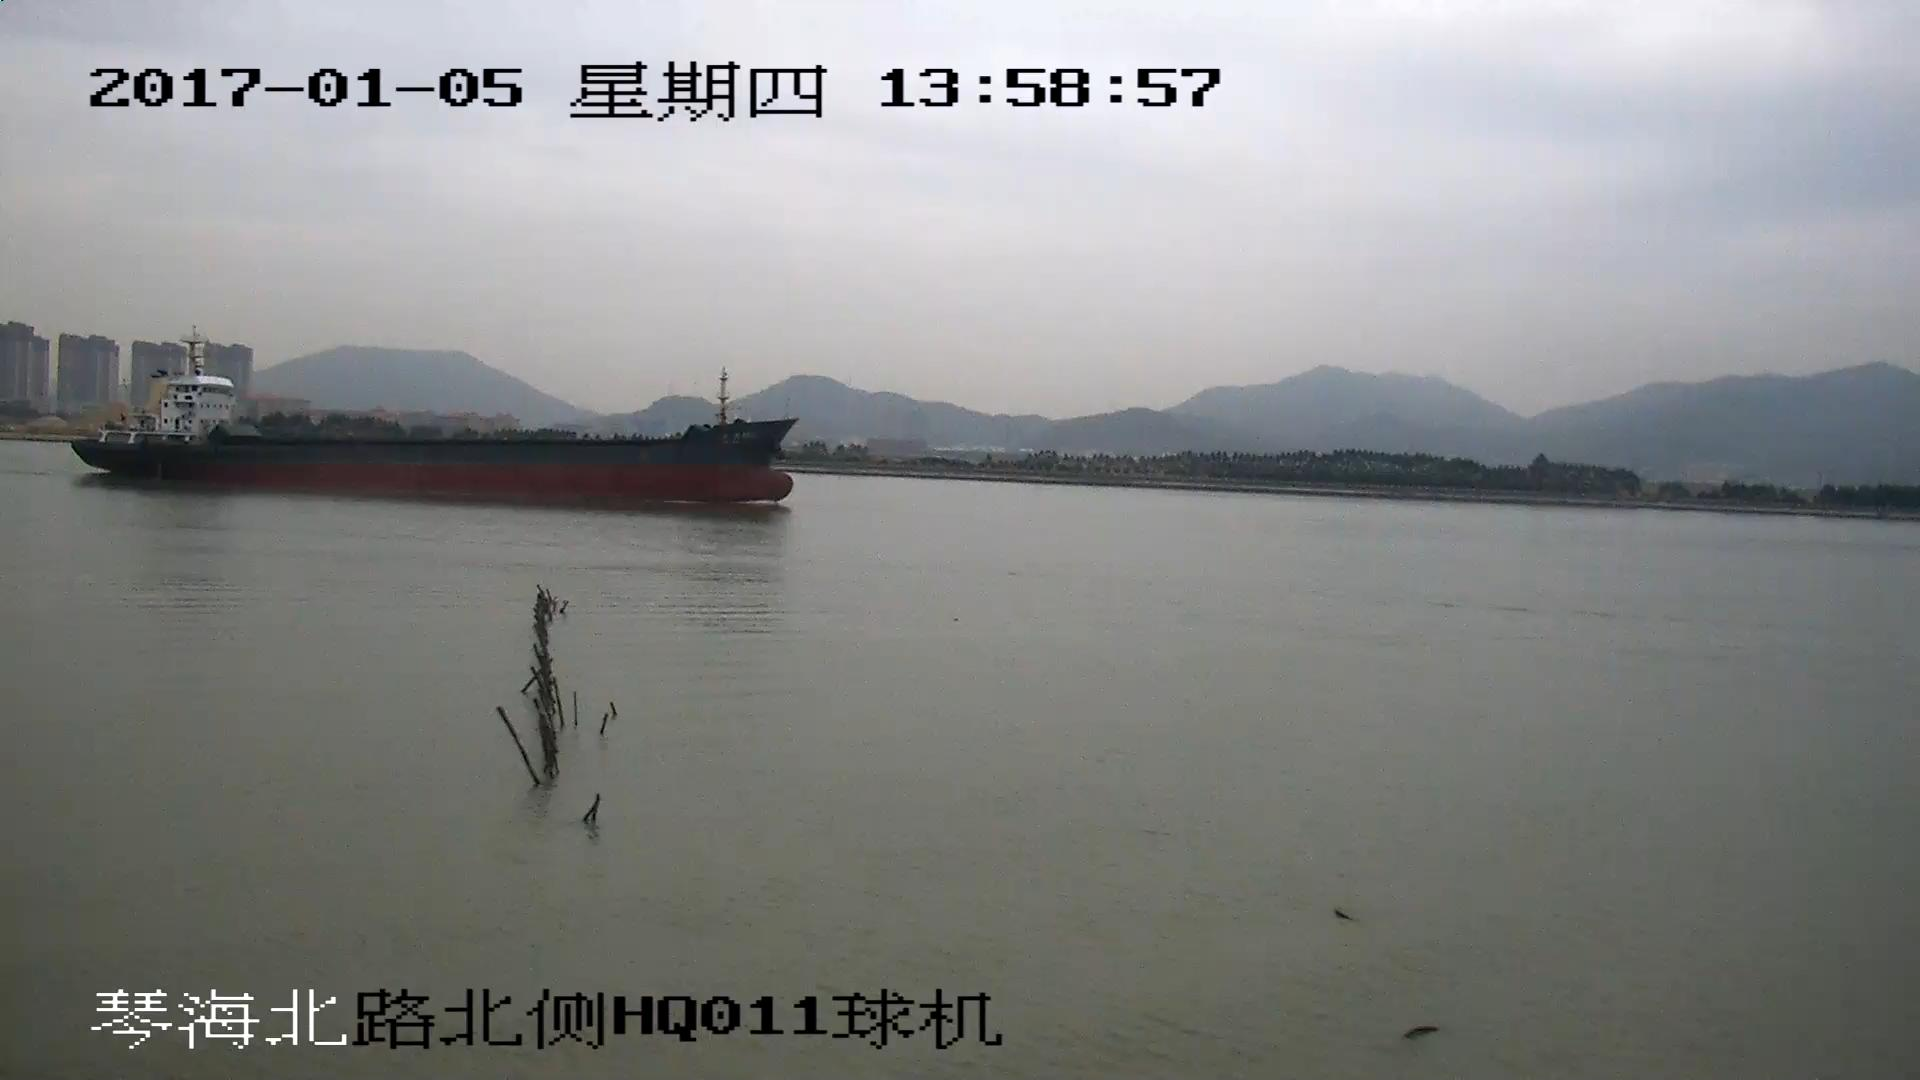general cargo ship: (72, 328, 798, 506)
